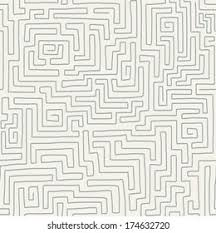maze: (1, 1, 216, 216)
